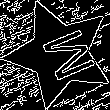M_SW: (26, 22, 92, 85)
